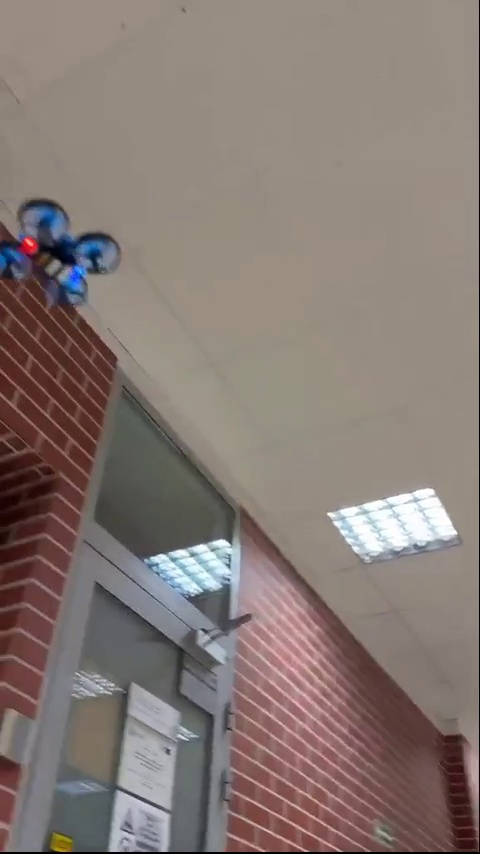drone: (2, 204, 120, 307)
